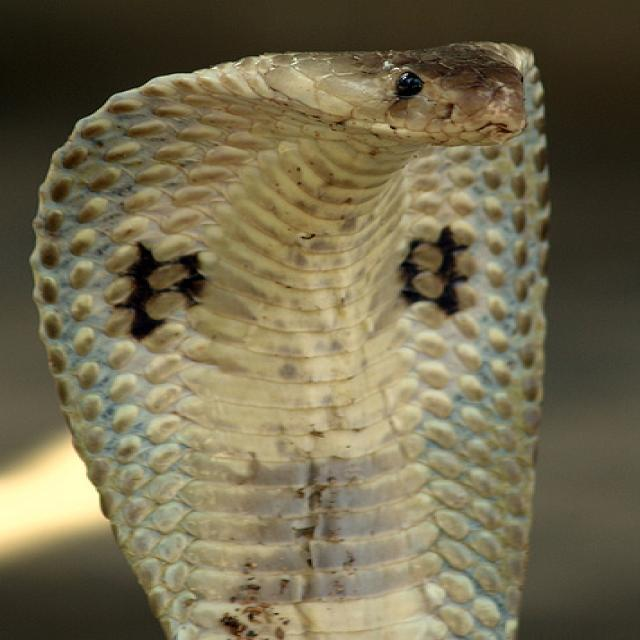Snake: (27, 38, 554, 639)
